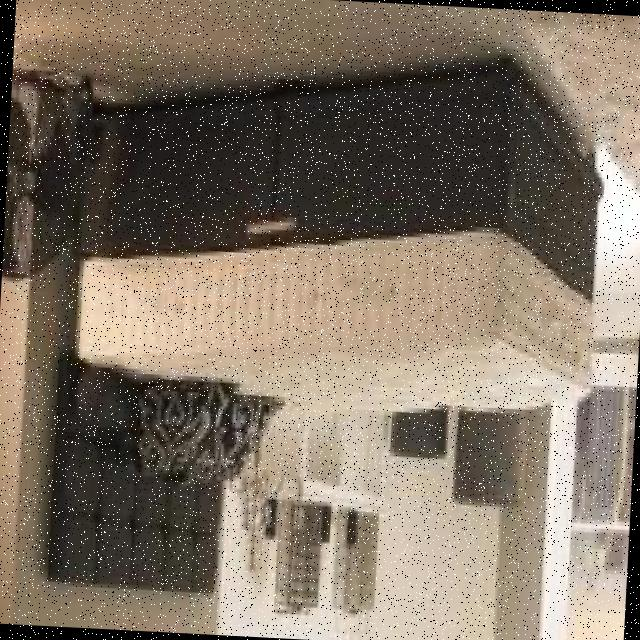Bed: (32, 18, 633, 622)
